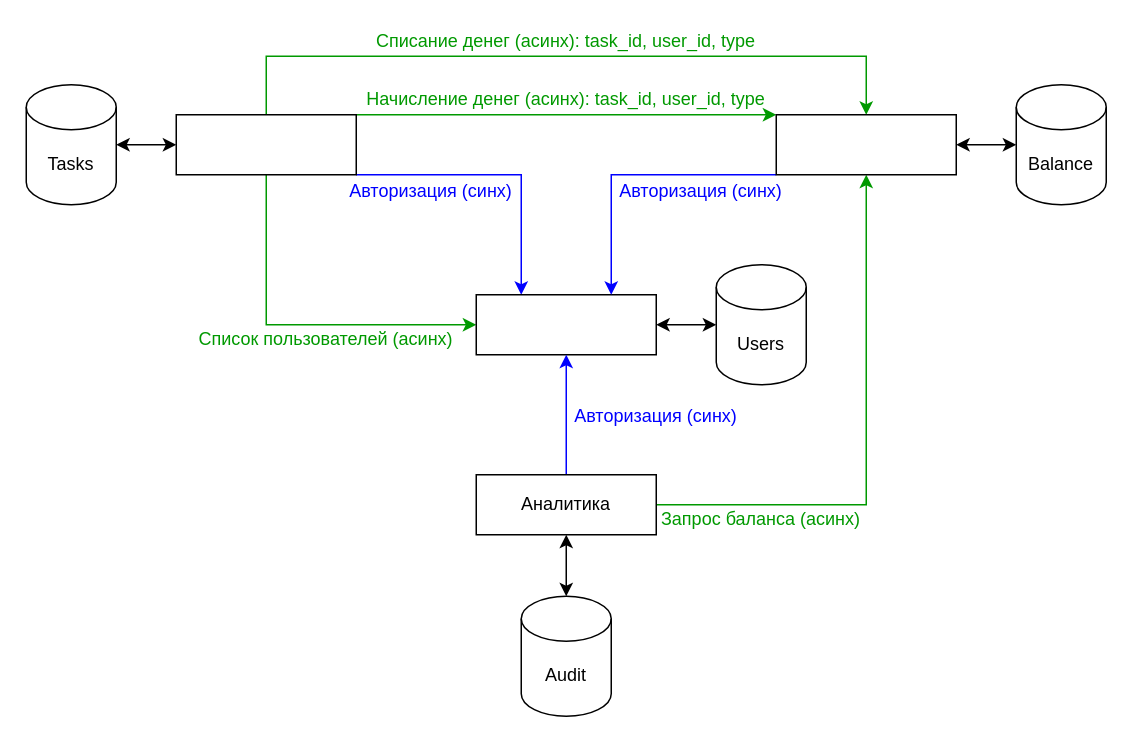
The diagram is 1133 pixels wide and 743 high, and some of its shapes have lost their labels. Each missing label, with the centre of its shape:
Авторизация: [565,324]
Аккаунтинг: [865,144]
Таск-трекер: [265,144]
